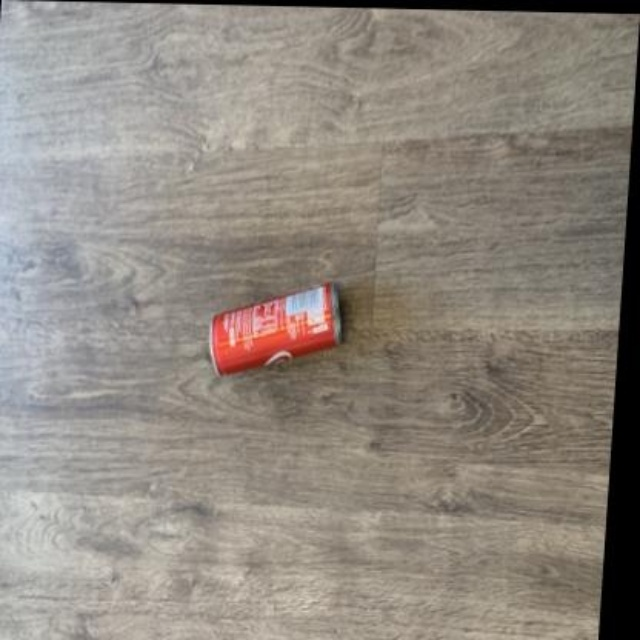trash: (209, 283, 340, 374)
